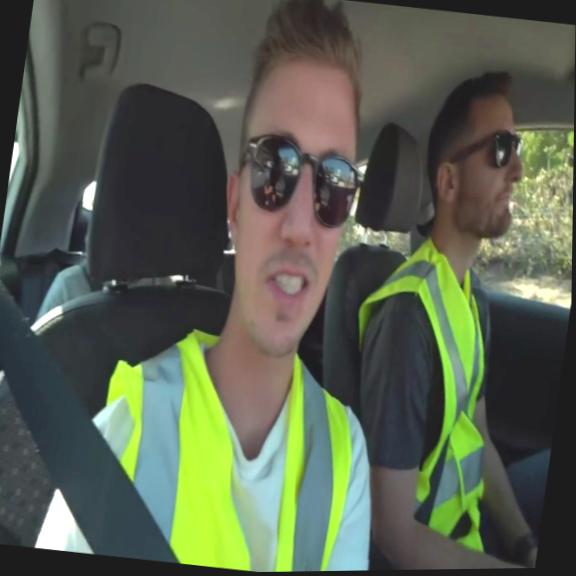safety_vest: (83, 315, 367, 575), (327, 223, 527, 556)
